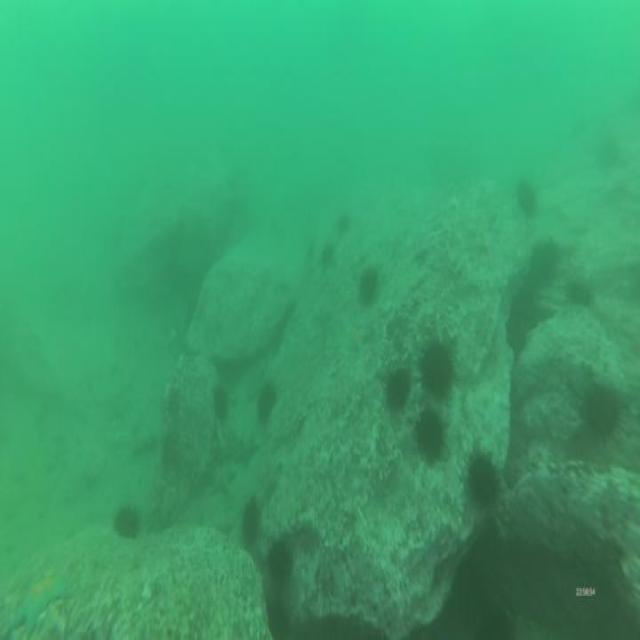echinus: (420, 346, 454, 397), (588, 387, 620, 438), (466, 455, 499, 504), (418, 412, 442, 463), (532, 234, 554, 284), (242, 498, 260, 547), (384, 370, 408, 406), (114, 508, 140, 540), (268, 542, 286, 583), (258, 379, 276, 419), (357, 269, 375, 305), (520, 180, 537, 210), (214, 384, 228, 417), (320, 245, 332, 267), (337, 212, 349, 234)
starfish: (13, 574, 67, 629)
